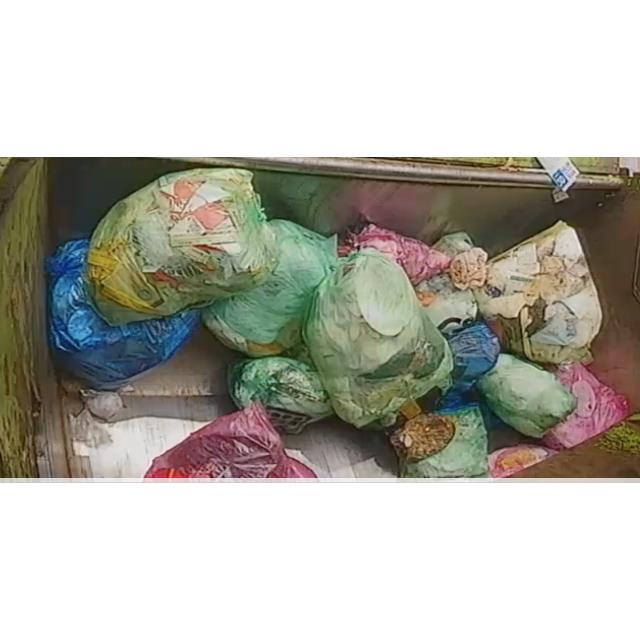general_trashbag: (88, 168, 274, 324), (304, 250, 452, 428), (202, 220, 338, 357), (476, 354, 576, 438), (228, 357, 334, 434), (400, 404, 488, 478)
other_trashbag: (46, 240, 199, 391), (475, 221, 602, 364), (145, 404, 316, 478), (542, 363, 630, 449), (346, 224, 451, 284), (448, 322, 500, 392)
